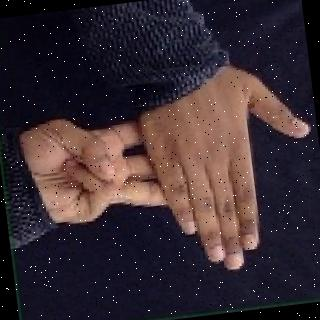M: (24, 79, 320, 277)
